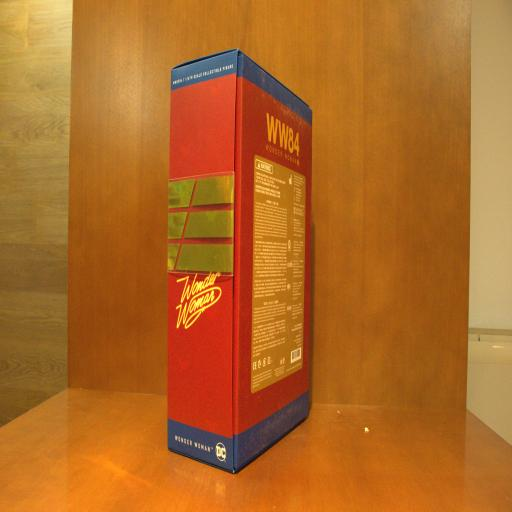WonderWoman: (167, 48, 313, 476)
